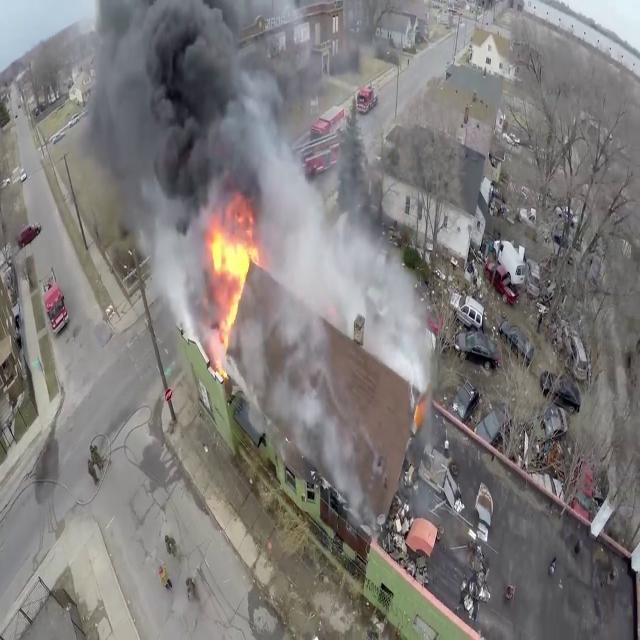Fire: (204, 200, 262, 352)
Smoke: (80, 1, 298, 274), (248, 160, 434, 402)
